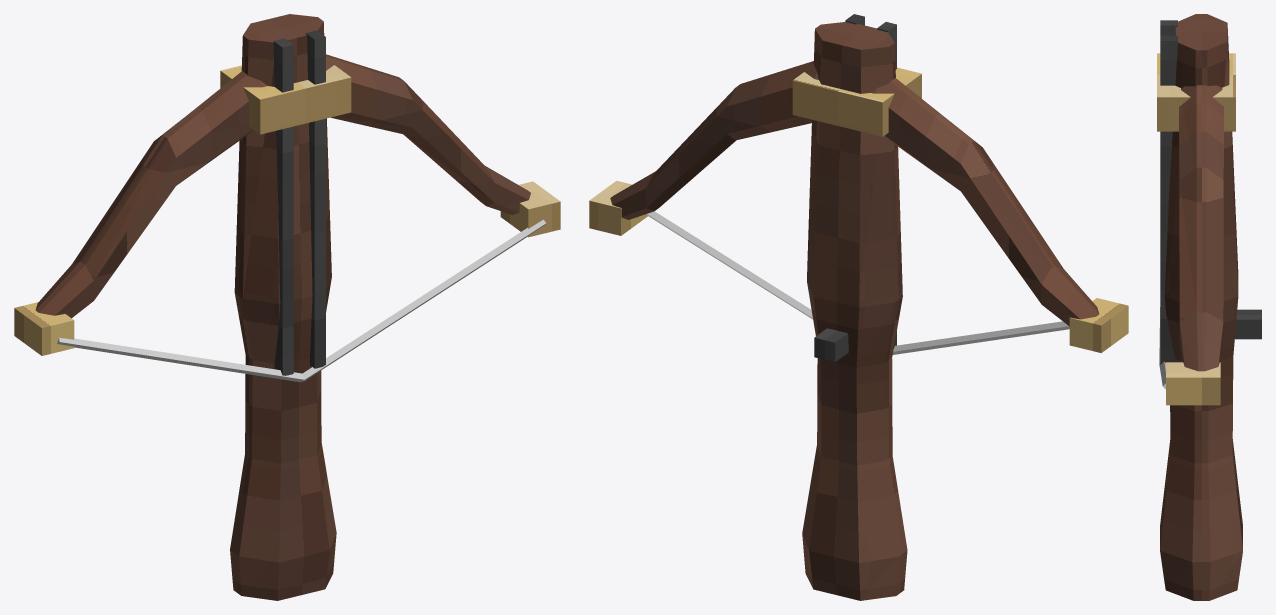
The model's file is cutout.obj.
3 views of the same model, side by side, from view 1: azimuth 30°, elevation 25°; view 2: azimuth 150°, elevation 25°; view 3: azimuth 270°, elevation 25° (orthographic).
Size of the model in its own units: 1.16 by 1.19 by 0.2062.
